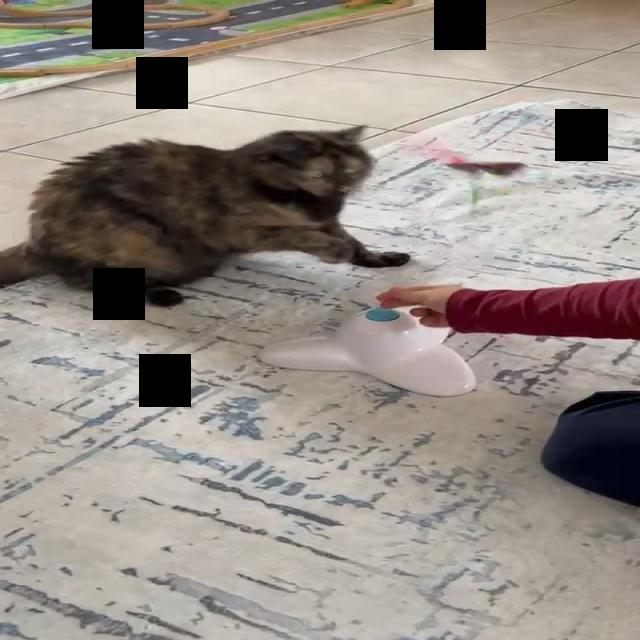authorized: (0, 124, 411, 308)
